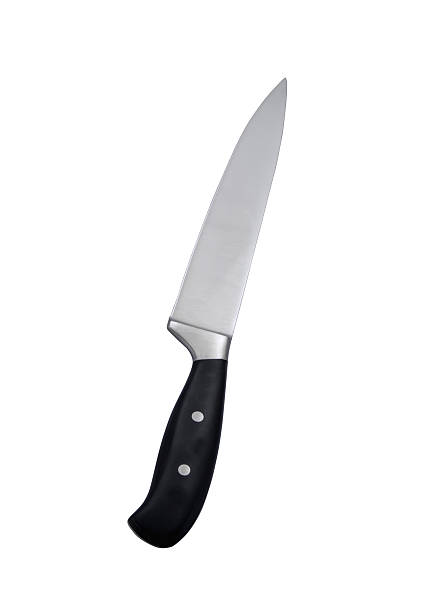knife: (122, 74, 292, 555)
